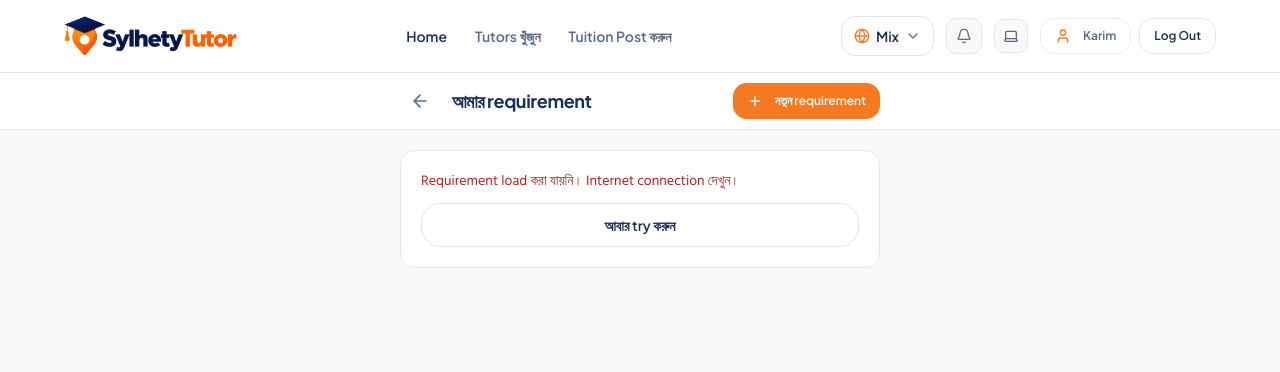
Scenario: MyRequirements page › shows an error with a retry
Expected: the text "Requirement load করা যায়নি। Internet connection দেখুন।" is shown, [421, 169, 740, 192]
Click the button "আবার try করুন" at (640, 225), box [421, 203, 859, 247]
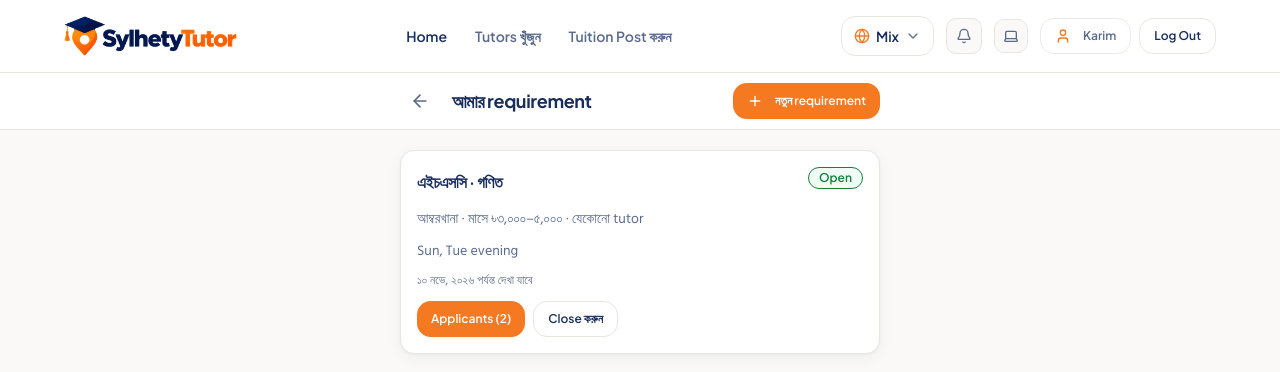
Result: the heading "এইচএসসি · গণিত" is shown at [417, 167, 502, 197]
